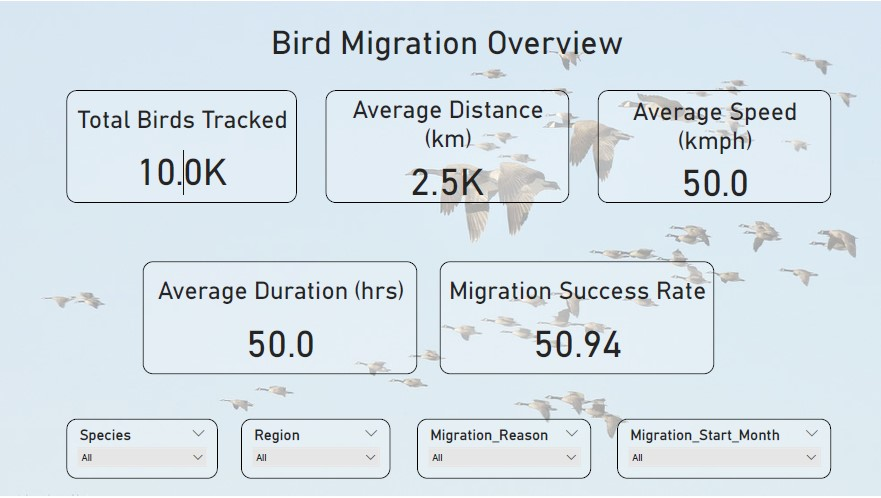

The page's visual inventory and layout, read from the dashboard file:
{"tool":"powerbi","page":{"name":"Overview Summary","canvas":[1280,720],"ordinal":0},"visuals":[{"type":"textbox","title":"Bird Migration Overview","box":[63.9,20.8,1171.7,73.7],"z":0},{"type":"card","title":"Total Birds Tracked","fields":{"Values":["CountNonNull(bird_migration_data.Bird_ID)"]},"box":[95.9,129.3,335,164],"z":1000},{"type":"card","title":"Average Speed (kmph)","fields":{"Values":["Avg(bird_migration_data.Average_Speed_kmph)"]},"box":[868.7,129.3,339.2,164],"z":2000},{"type":"card","title":"Average Distance (km)","fields":{"Values":["Avg(bird_migration_data.Flight_Distance_km)"]},"box":[472.6,129.3,354.4,164],"z":3000},{"type":"card","title":"Migration Success Rate","fields":{"Values":["bird_migration_data.Success_rate_%"]},"box":[639.4,378.1,398.9,164],"z":4000},{"type":"card","title":"Average Duration (hrs)","fields":{"Values":["Avg(bird_migration_data.Flight_Duration_hours)"]},"box":[207.1,378.1,398.9,164],"z":5000},{"type":"slicer","fields":{"Values":["bird_migration_data.Species"]},"box":[95.9,607.4,219.6,86.2],"z":6000},{"type":"slicer","fields":{"Values":["bird_migration_data.Migration_Start_Month"]},"box":[896.5,607.4,311.4,86.2],"z":7000},{"type":"slicer","fields":{"Values":["bird_migration_data.Region"]},"box":[350.3,607.4,216.8,86.2],"z":8000},{"type":"slicer","fields":{"Values":["bird_migration_data.Migration_Reason"]},"box":[606,607.4,253,86.2],"z":9000}]}

Visuals, with their boxes in screenshot pixels (x1, y1, x2, y2), scaled from the page's 1280x720 canvas onto the 881x498 screenshot:
"Bird Migration Overview" textbox: {"x1": 44, "y1": 14, "x2": 850, "y2": 65}
"Total Birds Tracked" card: {"x1": 66, "y1": 89, "x2": 297, "y2": 203}
"Average Speed (kmph)" card: {"x1": 598, "y1": 89, "x2": 831, "y2": 203}
"Average Distance (km)" card: {"x1": 325, "y1": 89, "x2": 569, "y2": 203}
"Migration Success Rate" card: {"x1": 440, "y1": 262, "x2": 715, "y2": 375}
"Average Duration (hrs)" card: {"x1": 143, "y1": 262, "x2": 417, "y2": 375}
slicer - bird_migration_data.Species: {"x1": 66, "y1": 420, "x2": 217, "y2": 480}
slicer - bird_migration_data.Migration_Start_Month: {"x1": 617, "y1": 420, "x2": 831, "y2": 480}
slicer - bird_migration_data.Region: {"x1": 241, "y1": 420, "x2": 390, "y2": 480}
slicer - bird_migration_data.Migration_Reason: {"x1": 417, "y1": 420, "x2": 591, "y2": 480}
